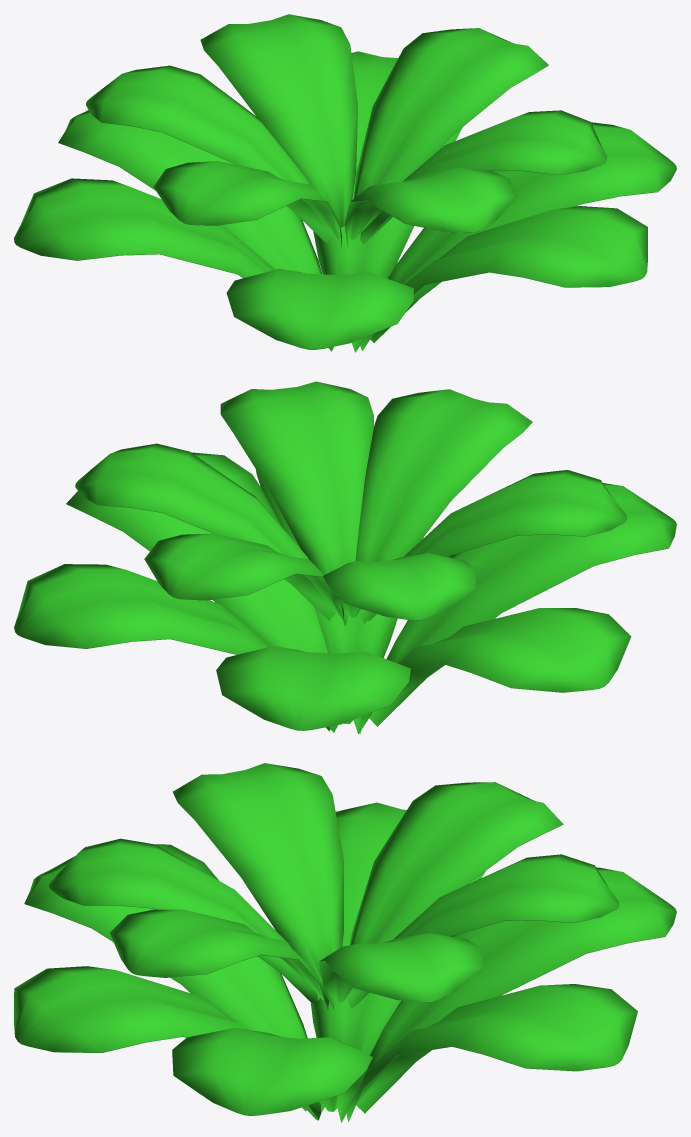
The model's file is Gras.fbx.
The picture shows the model from 3 angles, top to bottom: view 1: azimuth 30°, elevation 25°; view 2: azimuth 150°, elevation 25°; view 3: azimuth 270°, elevation 25°; orthographic projection. The views are drawn at different scales.
Visible parts, largest first — view 1: Plane.001; view 2: Plane.001; view 3: Plane.001.
Part boxes in pixels (x1,y1,x2,y2): Plane.001: [14, 14, 676, 352]; Plane.001: [14, 381, 676, 734]; Plane.001: [14, 763, 676, 1122].
Size of the model in its own units: 993 by 383 by 928.
